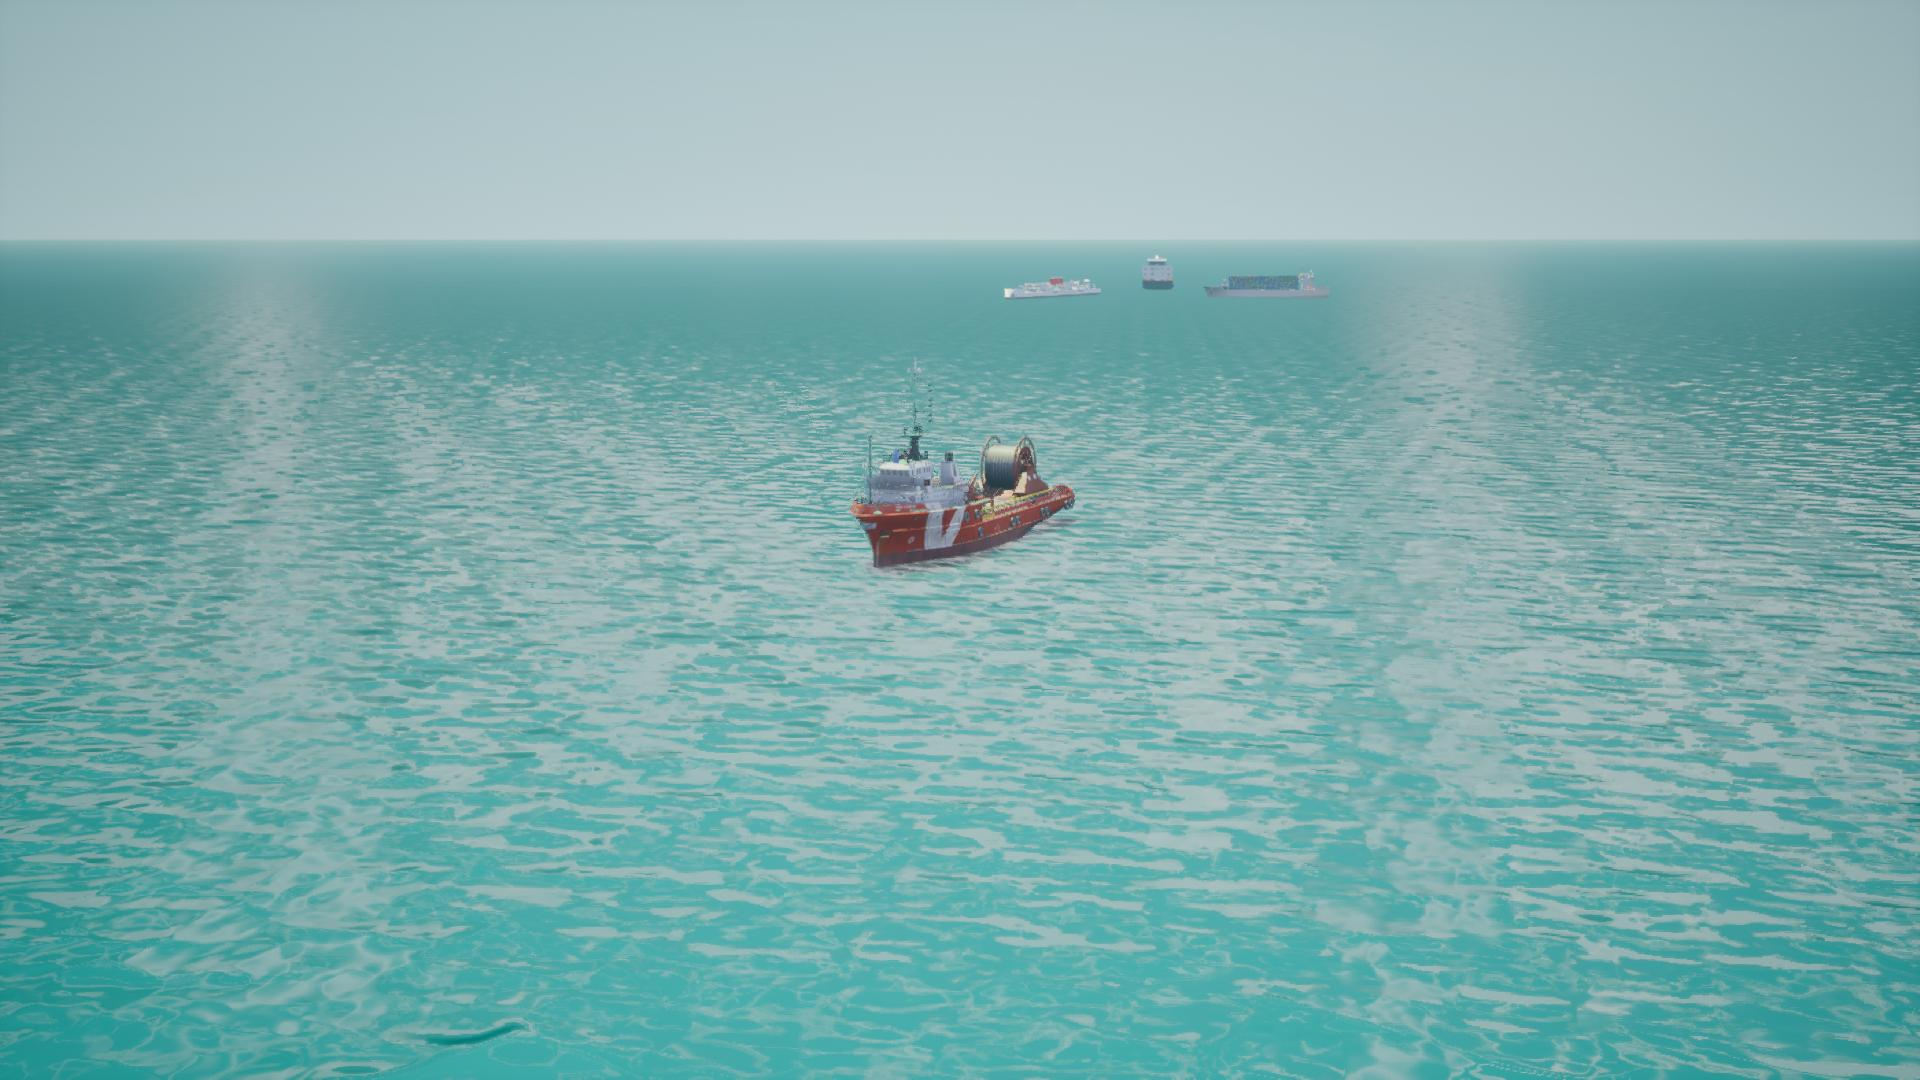Tug Boat: (848, 421, 1079, 572)
